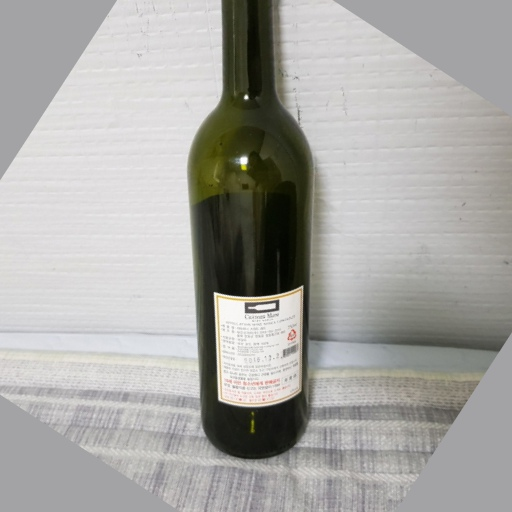Glass_2: (180, 1, 316, 463)
